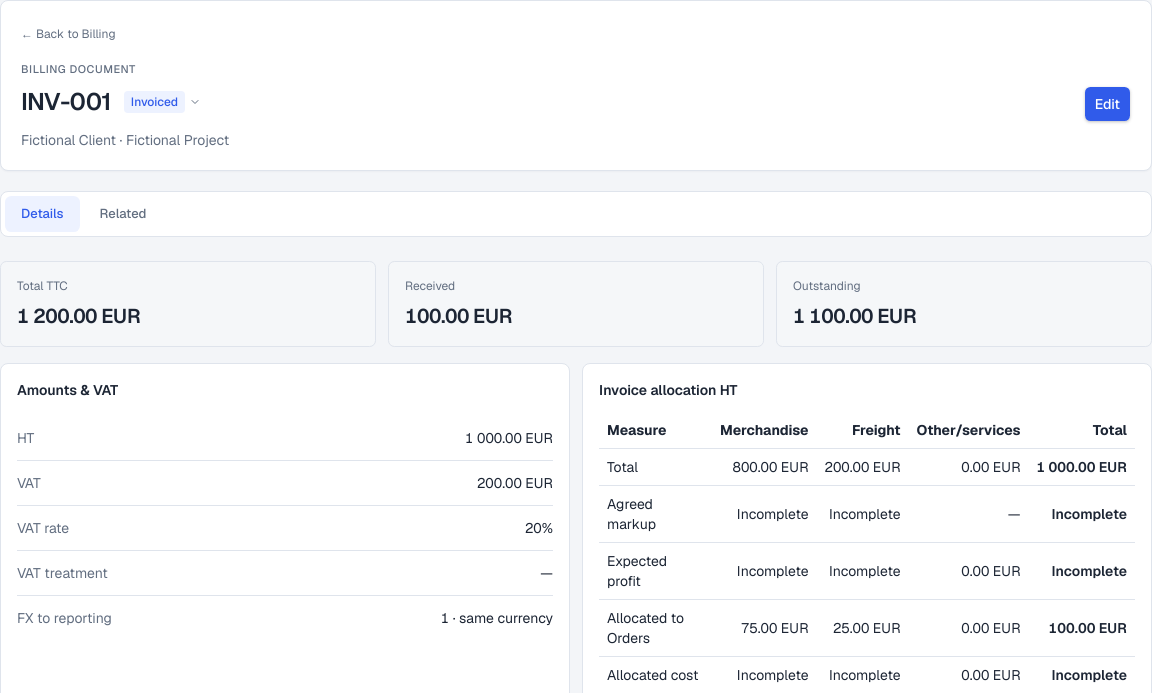
uses the contextual document date for QUOTE DRAFT
The width and height of the screenshot is (1152, 693).
Click the button "Edit" at (1107, 104), box [1084,86,1131,122]
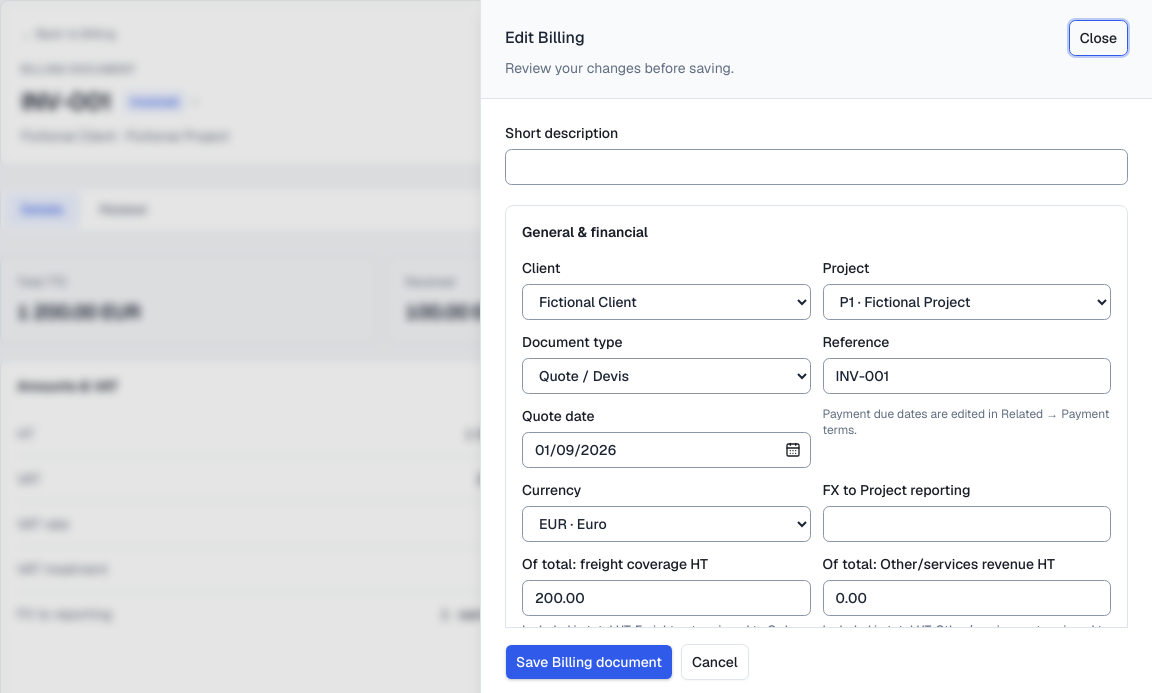
Expected: the dialog shows "Quote date", [522,407,594,425]
